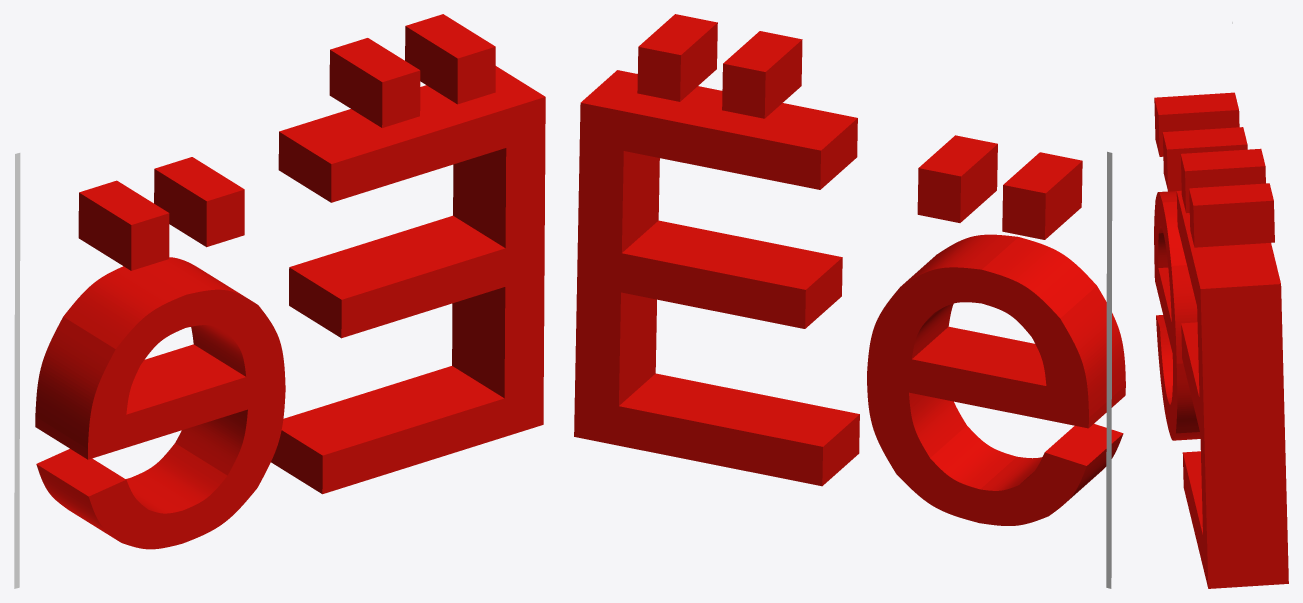
3 views of the same model, side by side, from view 1: azimuth 30°, elevation 25°; view 2: azimuth 150°, elevation 25°; view 3: azimuth 270°, elevation 25° (orthographic). The views are drawn at different scales.
Visible parts, largest first — view 1: Mesh_0.006, Плоскость; view 2: Mesh_0.006, Плоскость; view 3: Mesh_0.006.
Boxes of the visible parts, x1,y1,x2,y2 form: Mesh_0.006: (35, 14, 545, 549); Плоскость: (14, 153, 20, 588); Mesh_0.006: (574, 14, 1125, 525); Плоскость: (1106, 151, 1112, 588); Mesh_0.006: (1154, 92, 1288, 588).
Size of the model in its own units: 11.61 by 9.66 by 2.92.
